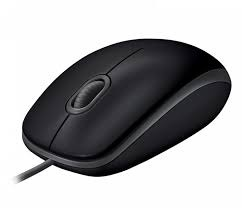mouse: (8, 20, 234, 185)
